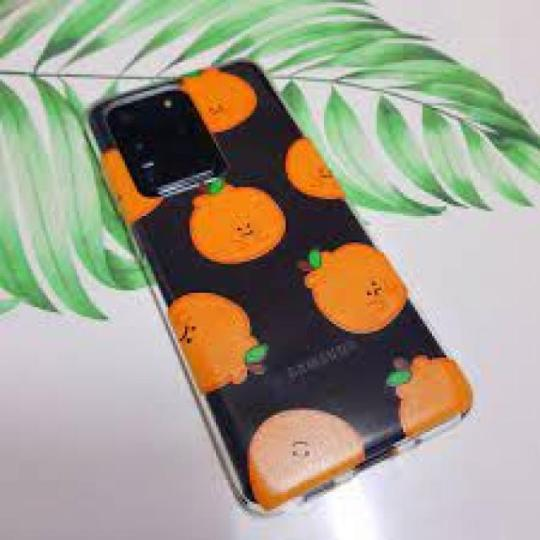phone: (85, 56, 486, 521)
